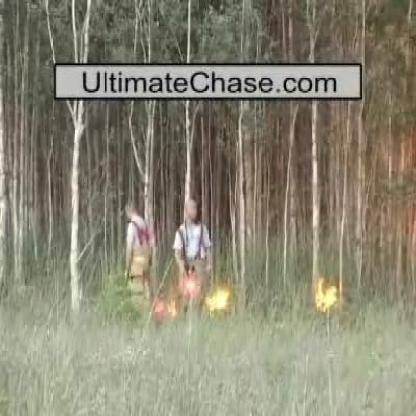foggia-v2-map80-epoch100 - v1 4323: (316, 279, 338, 313), (207, 290, 228, 313)
